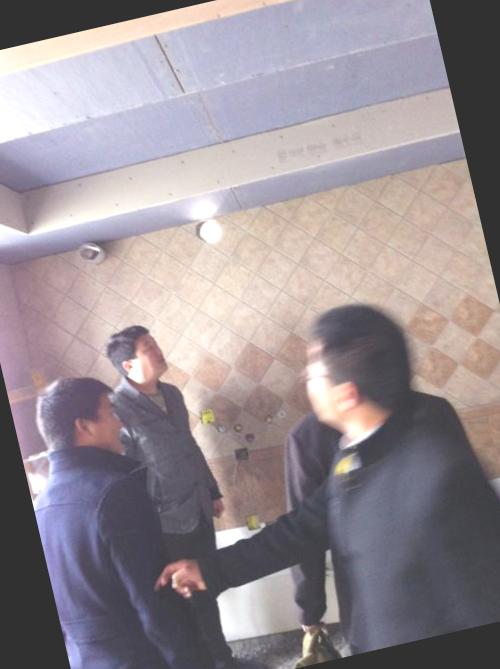no_helmet: (277, 281, 436, 446), (26, 360, 137, 469), (107, 315, 174, 395)
